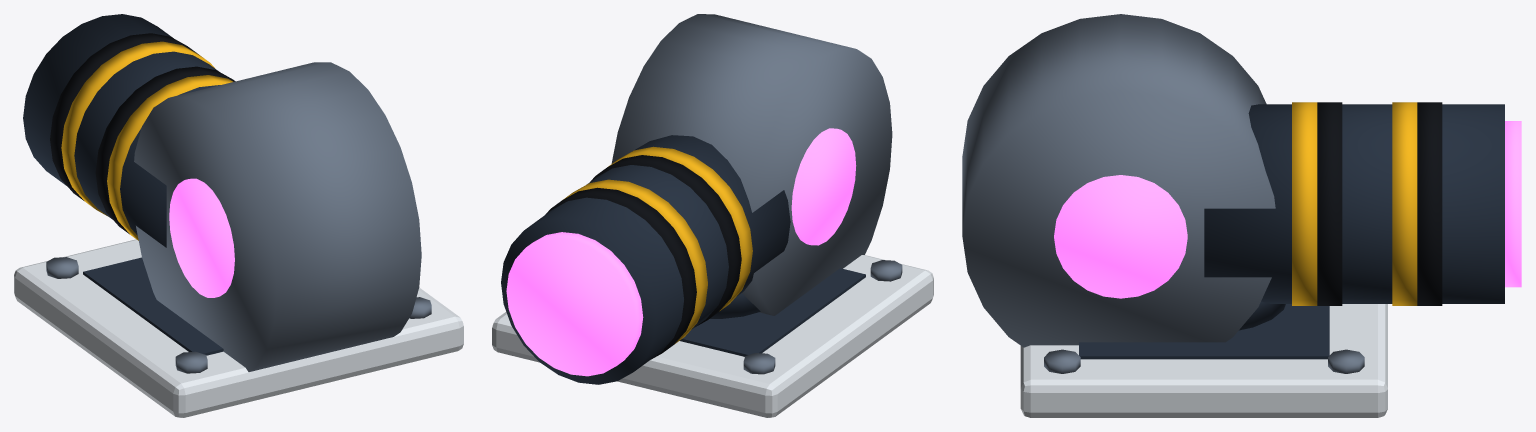
Rendered from plasma.fbx.
The picture shows the model from 3 angles, left to right: view 1: azimuth 30°, elevation 25°; view 2: azimuth 150°, elevation 25°; view 3: azimuth 270°, elevation 25°; orthographic projection. The views are drawn at different scales.
Parts seen in each view (by area): view 1: Gun_Drum0, Panel_Plate0.007, Inset_Barrel0.003, Emit_Core0, Inset_Inset0.007, Hazard_Stripe2, Hazard_Stripe0, Tread_Stripe3, Tread_Stripe1, Gun_Bolt1.007, Gun_Bolt0.007; view 2: Gun_Drum0, Inset_Barrel0.003, Panel_Plate0.007, Emit_Mouth0, Emit_Core0, Inset_Inset0.007, Tread_Stripe1, Tread_Stripe3, Hazard_Stripe0, Hazard_Stripe2, Inset_Ring0.007, Gun_Bolt1.007 (+1 smaller); view 3: Gun_Drum0, Inset_Barrel0.003, Panel_Plate0.007, Emit_Core0, Inset_Inset0.007, Hazard_Stripe0, Hazard_Stripe2, Tread_Stripe1, Tread_Stripe3, Emit_Mouth0, Gun_Bolt3.007, Gun_Bolt2.007 (+1 smaller).
Part boxes in pixels (box(x1,y1,x2,y2)): Gun_Drum0: box(134, 62, 421, 371); Panel_Plate0.007: box(14, 239, 463, 417); Inset_Barrel0.003: box(23, 14, 219, 247); Emit_Core0: box(169, 178, 234, 297); Inset_Inset0.007: box(83, 257, 223, 355); Hazard_Stripe2: box(61, 41, 215, 216); Hazard_Stripe0: box(107, 75, 233, 240); Tread_Stripe3: box(50, 33, 197, 200); Tread_Stripe1: box(95, 66, 235, 234); Gun_Bolt1.007: box(46, 257, 78, 278); Gun_Bolt0.007: box(175, 351, 207, 373); Gun_Drum0: box(611, 14, 892, 315); Inset_Barrel0.003: box(501, 135, 790, 384); Panel_Plate0.007: box(492, 255, 933, 417); Emit_Mouth0: box(506, 232, 643, 376); Emit_Core0: box(791, 128, 856, 245); Inset_Inset0.007: box(680, 268, 865, 356); Tread_Stripe1: box(590, 155, 741, 326); Tread_Stripe3: box(545, 187, 696, 359); Hazard_Stripe0: box(608, 146, 752, 311); Hazard_Stripe2: box(563, 179, 707, 344); Inset_Ring0.007: box(710, 293, 760, 318); Gun_Bolt1.007: box(743, 353, 775, 374); Gun_Drum0: box(962, 14, 1275, 347); Inset_Barrel0.003: box(1204, 104, 1504, 303); Panel_Plate0.007: box(1020, 304, 1387, 417); Emit_Core0: box(1054, 175, 1187, 298); Inset_Inset0.007: box(1079, 304, 1329, 359); Hazard_Stripe0: box(1292, 102, 1317, 305); Hazard_Stripe2: box(1392, 102, 1417, 305); Tread_Stripe1: box(1317, 102, 1342, 305); Tread_Stripe3: box(1417, 102, 1442, 305); Emit_Mouth0: box(1505, 121, 1521, 287); Gun_Bolt3.007: box(1328, 349, 1364, 373); Gun_Bolt2.007: box(1044, 349, 1080, 373).
Bounding box in the file's own units: 0.44 × 0.67 × 0.385.
